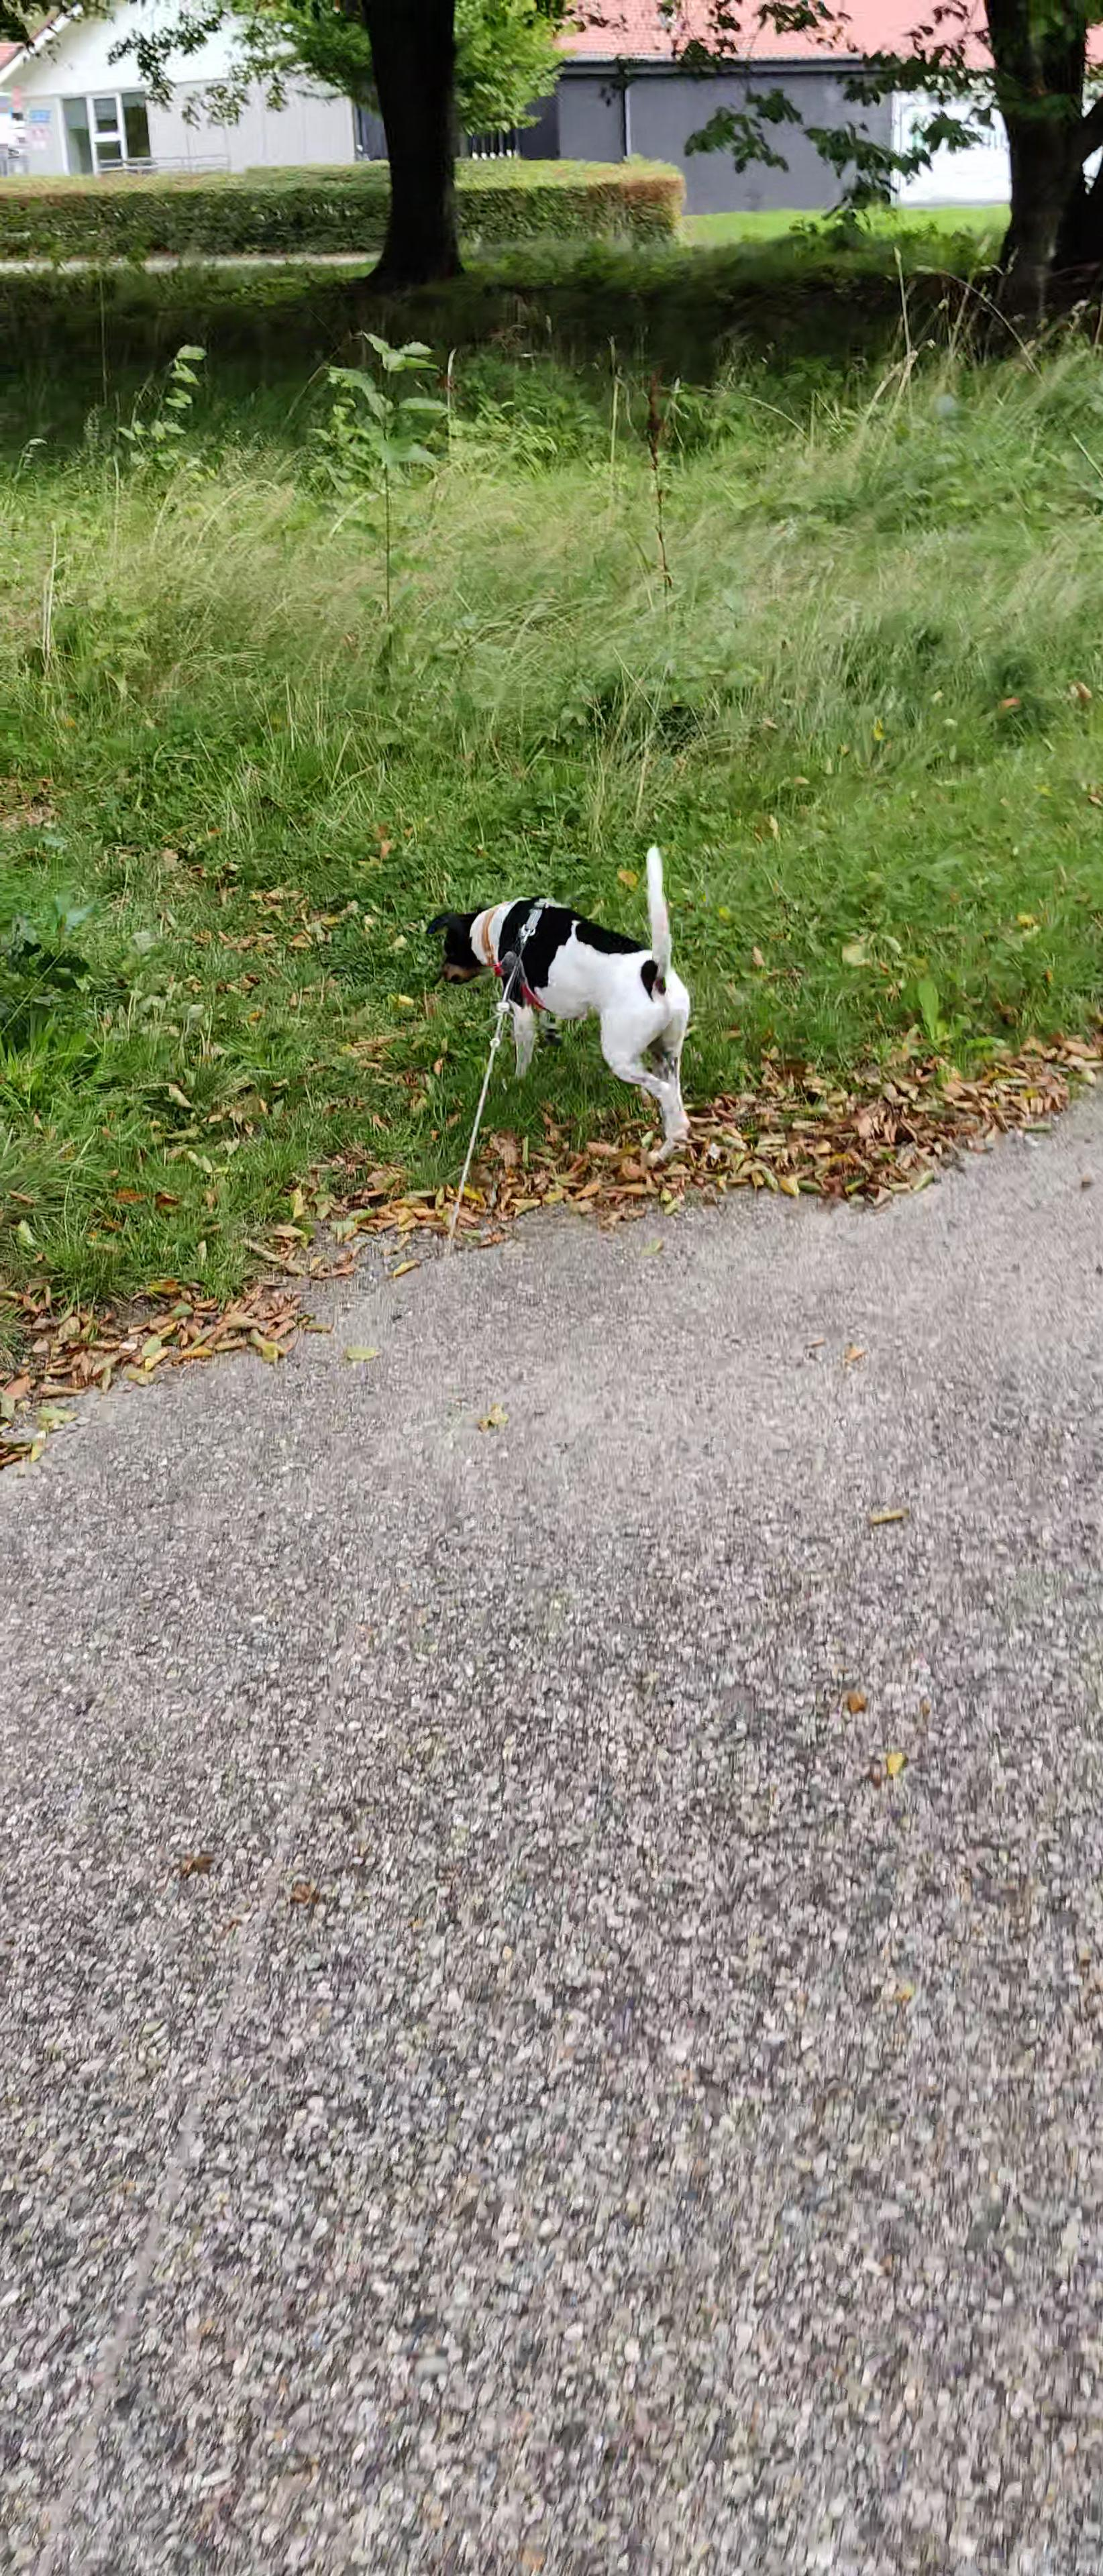Dog: (416, 839, 699, 1153)
